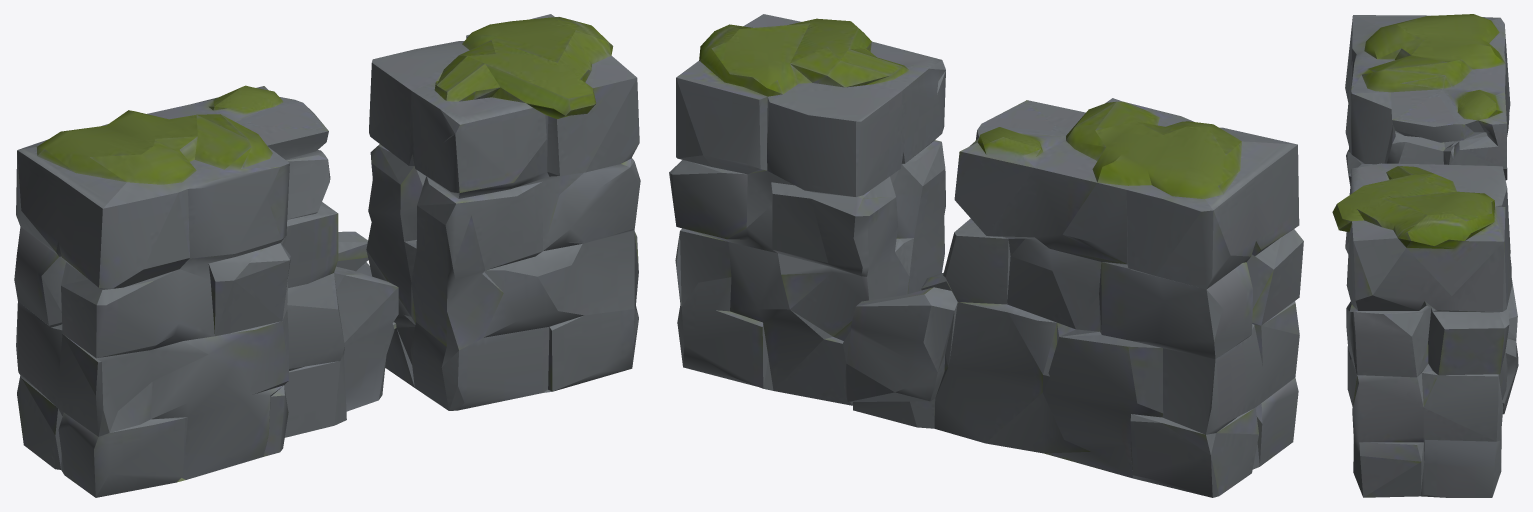
File: dyke.glb
3 renders of one model, left to right at view 1: azimuth 30°, elevation 25°; view 2: azimuth 150°, elevation 25°; view 3: azimuth 270°, elevation 25°, orthographic. The views are drawn at different scales.
Bounding box in the file's own units: 1.9 × 1.04 × 0.6365.
1 material, 1 textured.
